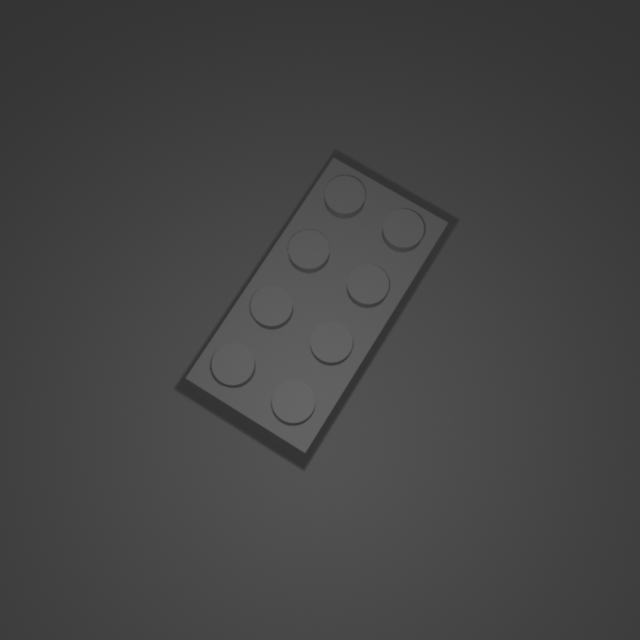lego_2x4: (183, 152, 450, 462)
